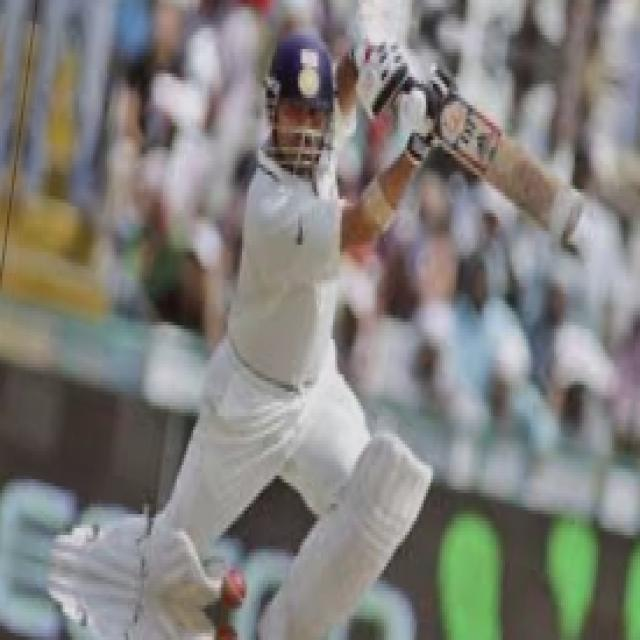bat: (436, 99, 603, 252)
toe: (560, 194, 585, 237)
